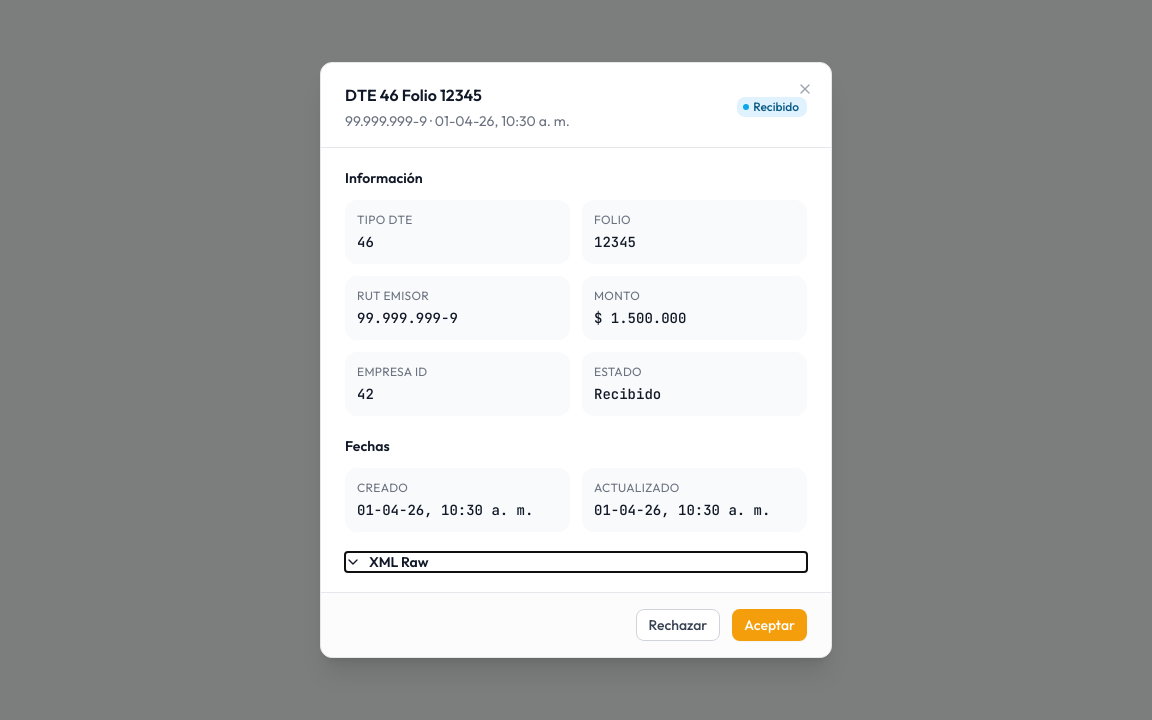
Test case: DTERecepcionModal › displays xml_raw in collapsible section
Click the button "XML Raw" at (399, 562), box [345,552,807,572]
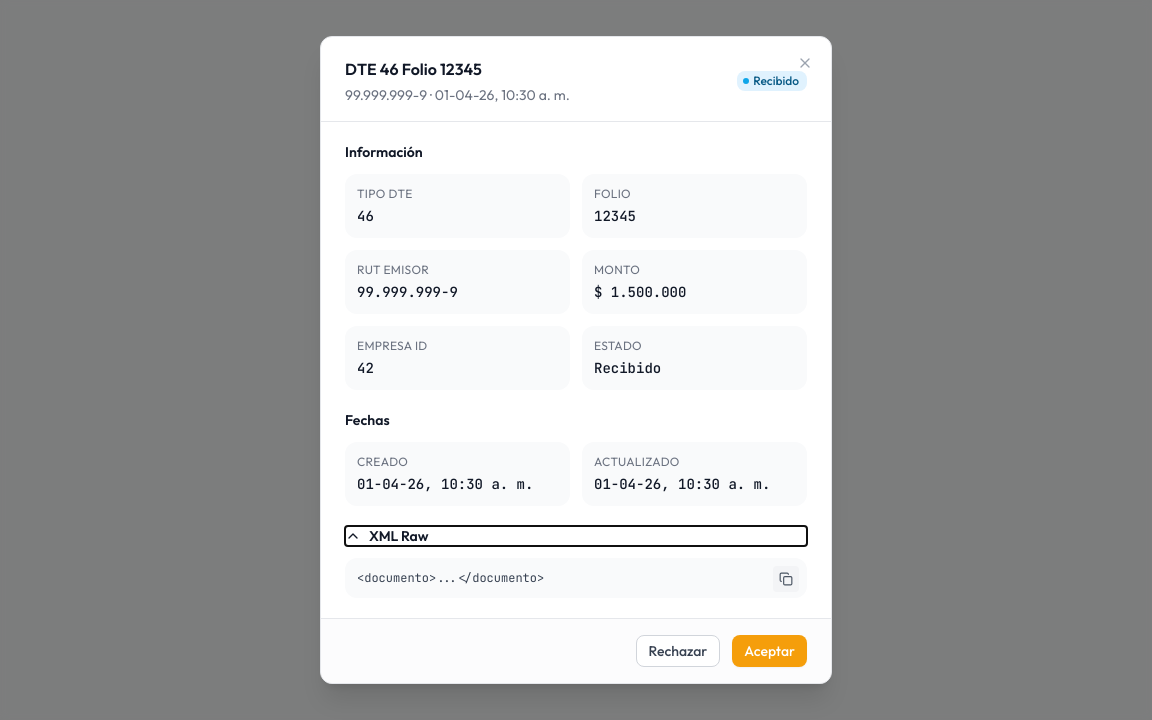
Expected: the text "<documento>...</documento>" is shown, [345,558,807,598]
